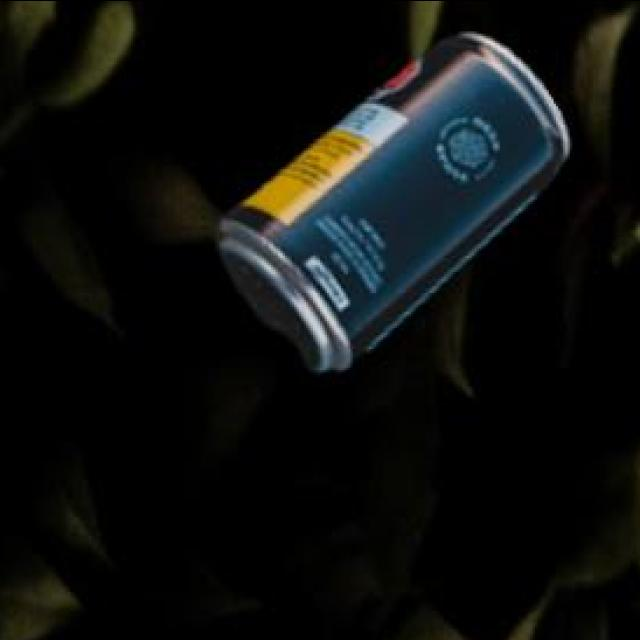logam: (214, 36, 564, 373)
